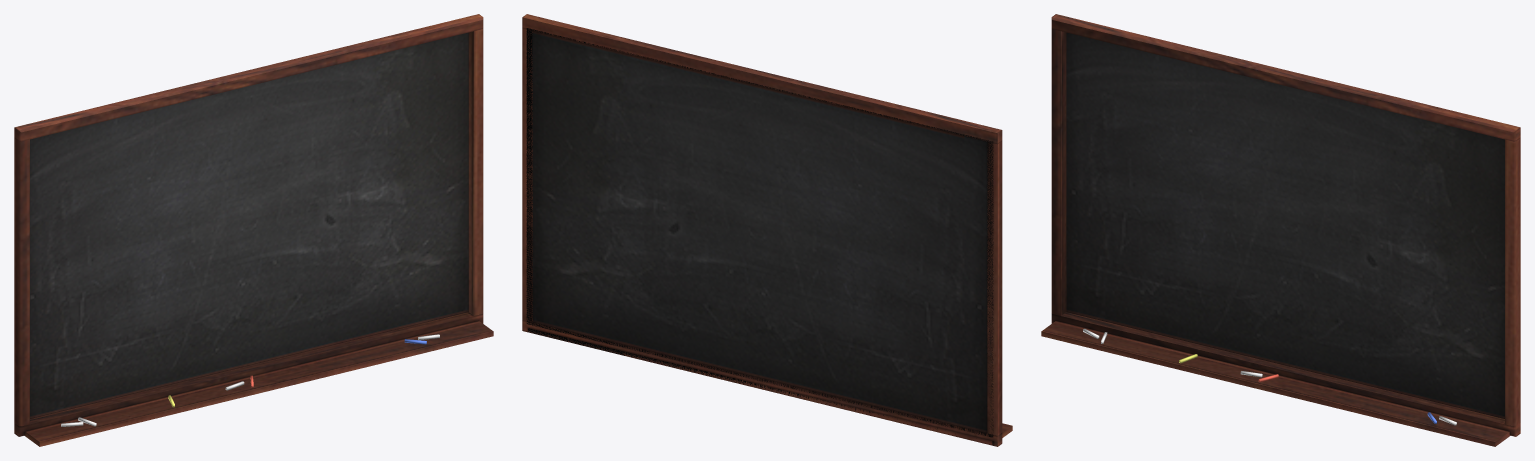
Rendered from chalkboard_01.fbx.
The picture shows the model from 3 angles, left to right: view 1: azimuth 30°, elevation 25°; view 2: azimuth 150°, elevation 25°; view 3: azimuth 330°, elevation 25°; orthographic projection. The views are drawn at different scales.
Parts seen in each view (by area): view 1: chalkboard_01; view 2: chalkboard_01; view 3: chalkboard_01.
Boxes of the visible parts, <box> form: chalkboard_01: <box>14,14,493,446</box>; chalkboard_01: <box>522,14,1012,446</box>; chalkboard_01: <box>1041,14,1520,446</box>.
Bounding box in the file's own units: 224 × 141 × 16.6.
